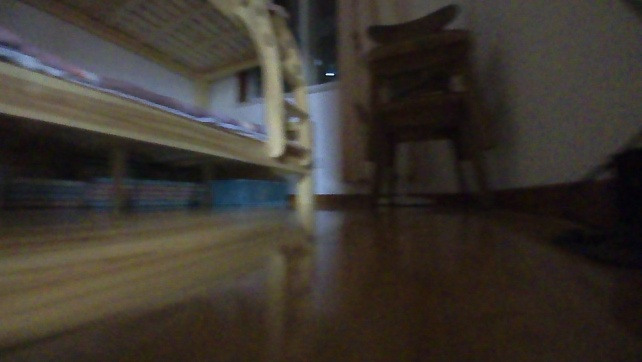bed: (0, 0, 320, 215)
